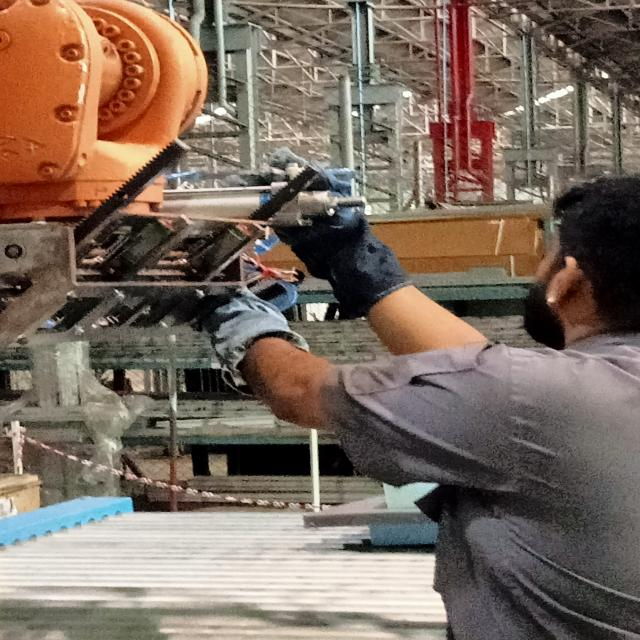Gloves-Detection: (249, 142, 406, 299), (202, 291, 300, 353)
